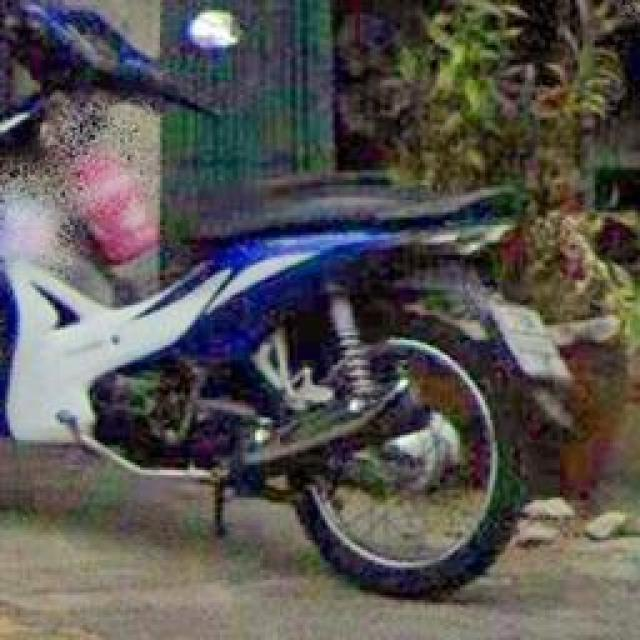motorcycle: (2, 8, 578, 598)
